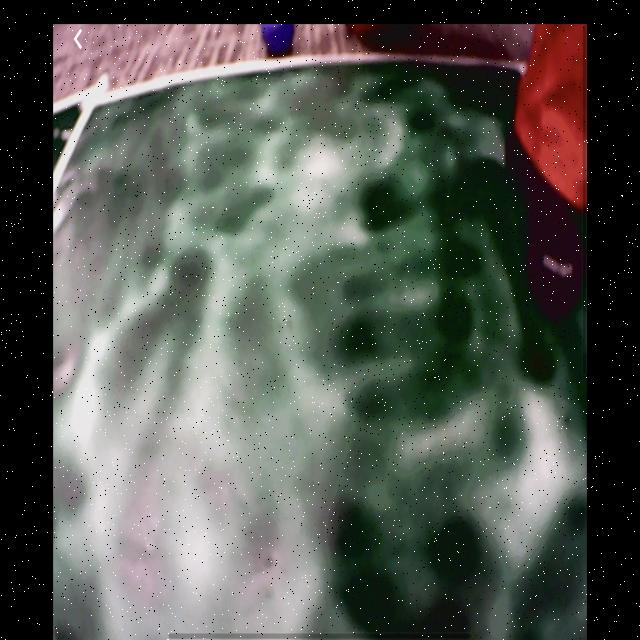ball: (261, 25, 299, 55)
